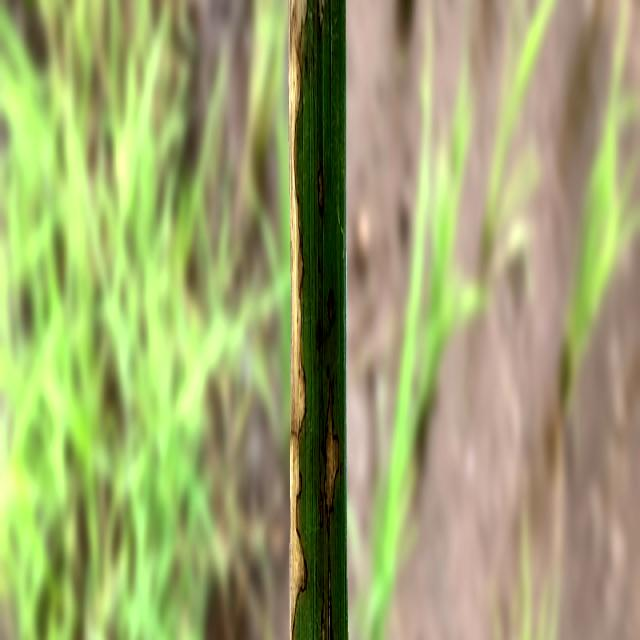BLB: (288, 0, 309, 640), (326, 366, 329, 378), (333, 375, 334, 387)
